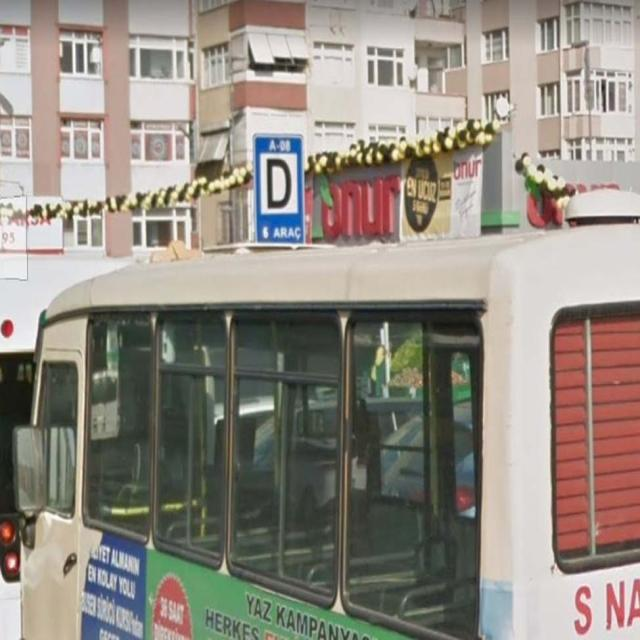durak: (253, 134, 305, 224)
